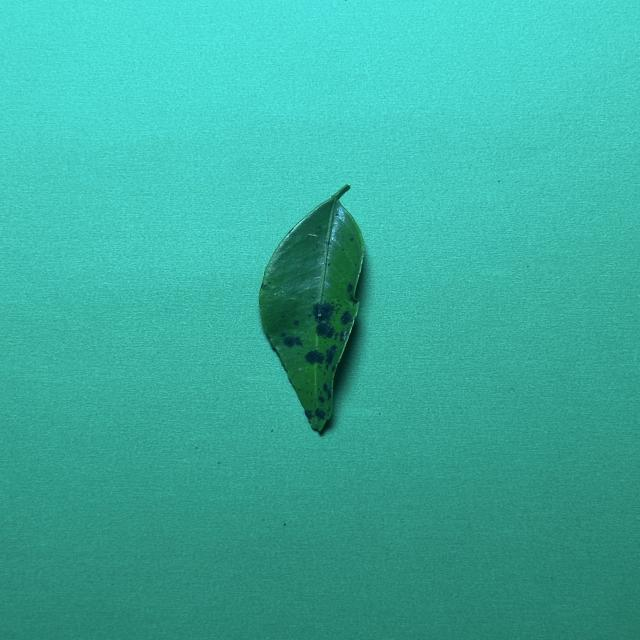sooty_mold: (259, 185, 364, 431)
